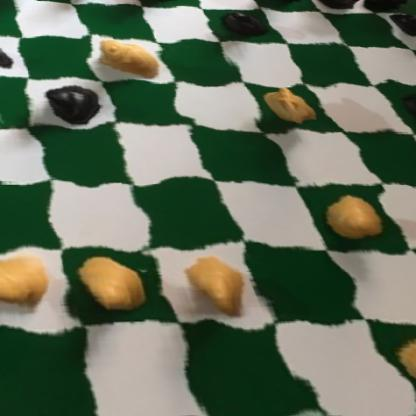black-bishop: (240, 0, 313, 6)
black-knight: (294, 0, 369, 12)
black-pawn: (37, 83, 105, 119), (211, 10, 273, 39), (375, 11, 416, 42), (388, 89, 416, 130), (0, 35, 21, 71)
black-rook: (338, 0, 416, 14)
white-king: (377, 330, 416, 416)
white-knight: (250, 80, 335, 128)
white-pawn: (69, 251, 159, 318), (173, 252, 261, 316), (308, 194, 404, 245), (0, 244, 60, 308)
white-queen: (93, 36, 169, 76)
white-rook: (127, 0, 192, 3)
